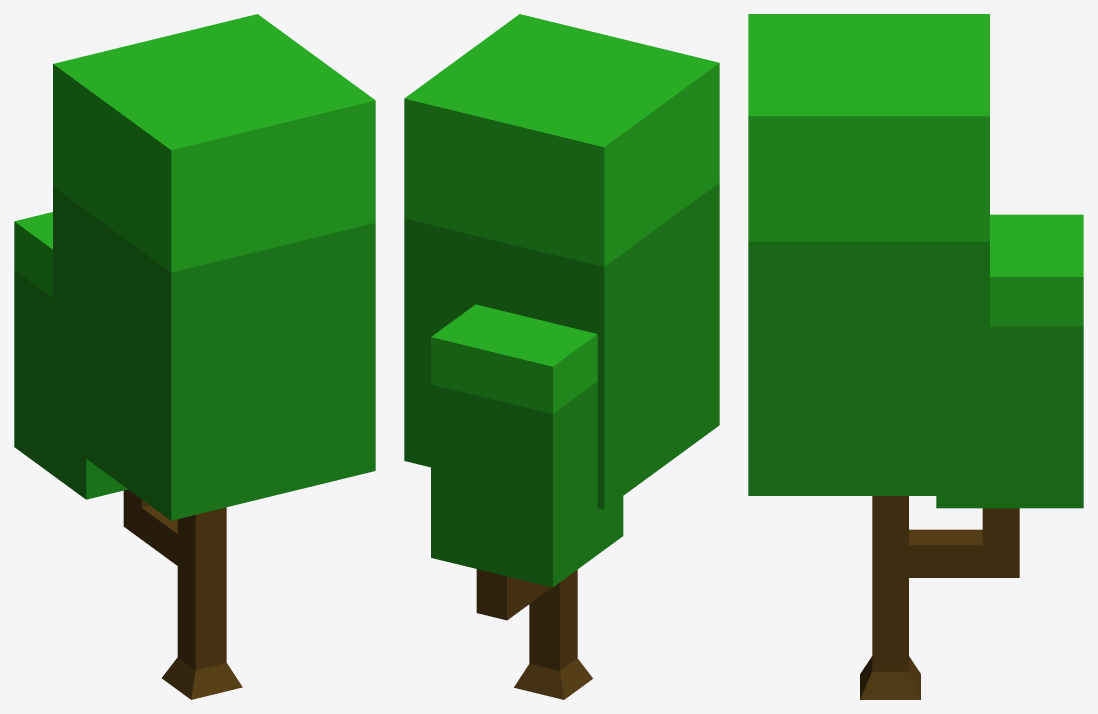
Rendered from tree02.glb.
The picture shows the model from 3 angles, left to right: view 1: azimuth 30°, elevation 25°; view 2: azimuth 150°, elevation 25°; view 3: azimuth 270°, elevation 25°; orthographic projection. The views are drawn at different scales.
Parts seen in each view (by area): view 1: tree2.002_spring_0; view 2: tree2.002_spring_0; view 3: tree2.002_spring_0.
Boxes of the visible parts, x1=… form: tree2.002_spring_0: x1=14, y1=14, x2=375, y2=699; tree2.002_spring_0: x1=404, y1=14, x2=719, y2=699; tree2.002_spring_0: x1=748, y1=14, x2=1083, y2=699.
Size of the model in its own units: 13.13 by 37.29 by 18.21.
Materials: 1 (1 with a texture image).
